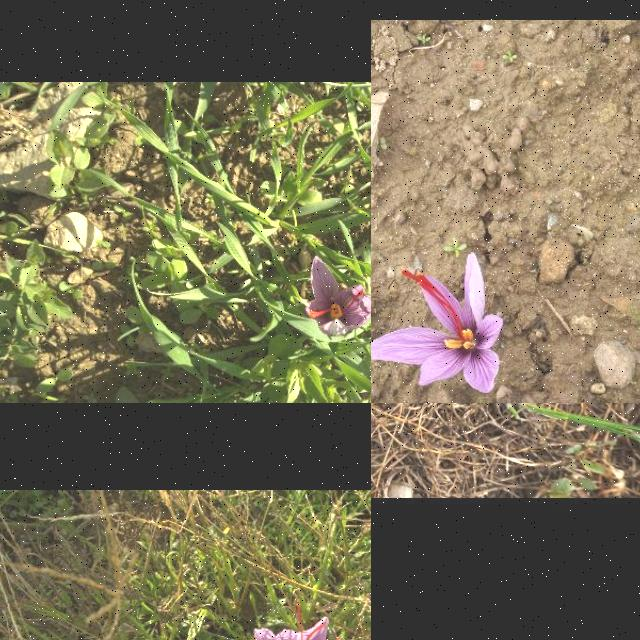flower: (371, 253, 503, 394), (306, 256, 371, 337), (254, 605, 343, 640)
